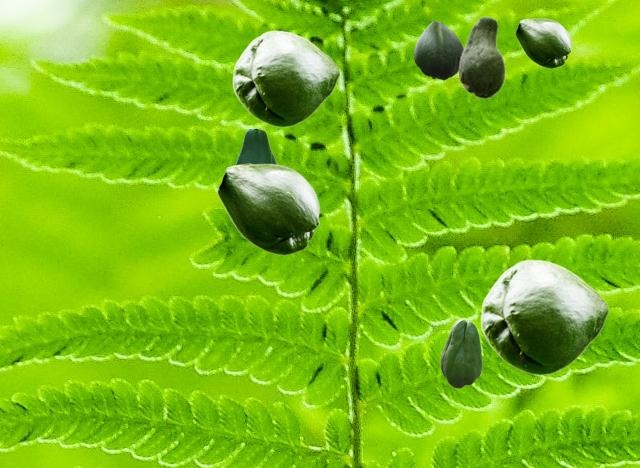sayote: (480, 259, 608, 374), (232, 30, 339, 126), (217, 163, 319, 254), (458, 16, 504, 98), (440, 319, 481, 387), (414, 21, 462, 79), (515, 18, 570, 67), (235, 129, 277, 163)
